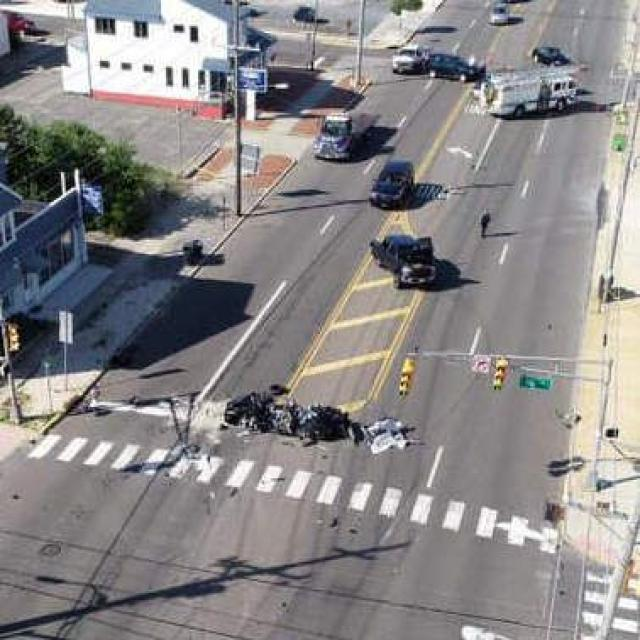traffic_incident: (218, 374, 400, 454), (357, 224, 454, 289)
